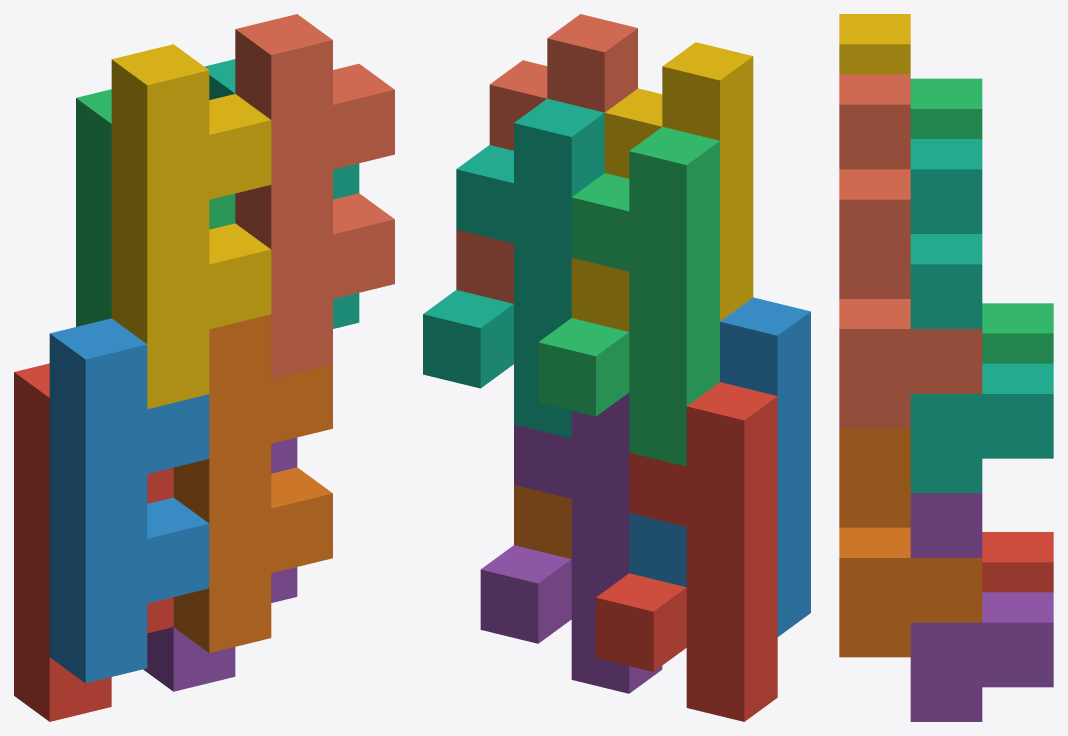
Rendered from tiling.obj.
3 renders of one model, left to right at view 1: azimuth 30°, elevation 25°; view 2: azimuth 150°, elevation 25°; view 3: azimuth 270°, elevation 25°, orthographic. The views are drawn at different scales.
Parts seen in each view (by area): view 1: copy_1_domain_2, copy_1_domain_4, copy_1_domain_8, copy_1_domain_6, copy_1_domain_1, copy_1_domain_3, copy_1_domain_5, copy_1_domain_7; view 2: copy_1_domain_1, copy_1_domain_3, copy_1_domain_7, copy_1_domain_5, copy_1_domain_4, copy_1_domain_2, copy_1_domain_8, copy_1_domain_6; view 3: copy_1_domain_8, copy_1_domain_7, copy_1_domain_6, copy_1_domain_5, copy_1_domain_3, copy_1_domain_1, copy_1_domain_4.
Part boxes in pixels (x1,y1,x2,y2): copy_1_domain_2: (49, 318, 209, 683); copy_1_domain_4: (111, 44, 271, 408); copy_1_domain_8: (235, 14, 394, 378); copy_1_domain_6: (173, 314, 332, 652); copy_1_domain_1: (14, 363, 173, 721); copy_1_domain_3: (76, 89, 235, 326); copy_1_domain_5: (143, 437, 297, 691); copy_1_domain_7: (204, 59, 359, 328); copy_1_domain_1: (596, 382, 777, 721); copy_1_domain_3: (538, 127, 719, 466); copy_1_domain_7: (423, 98, 604, 438); copy_1_domain_5: (480, 392, 662, 693); copy_1_domain_4: (571, 42, 753, 331); copy_1_domain_2: (629, 297, 810, 636); copy_1_domain_8: (456, 14, 637, 303); copy_1_domain_6: (514, 485, 571, 558); copy_1_domain_8: (839, 74, 982, 428); copy_1_domain_7: (910, 139, 1053, 492); copy_1_domain_6: (839, 428, 982, 657); copy_1_domain_5: (910, 493, 1053, 721); copy_1_domain_3: (910, 78, 1053, 363); copy_1_domain_1: (982, 532, 1053, 592); copy_1_domain_4: (839, 14, 910, 74).
Size of the model in its own units: 5 by 10 by 3.
